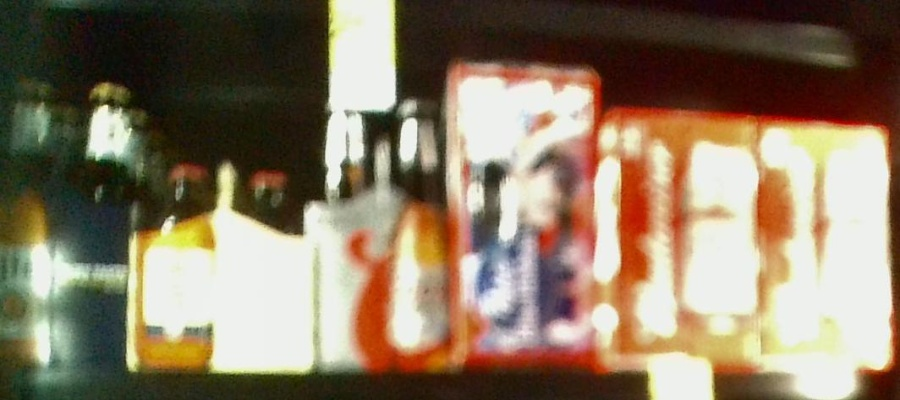bottle: (444, 56, 601, 371), (603, 103, 761, 375), (127, 161, 313, 376), (1, 78, 126, 374), (313, 93, 444, 371), (757, 112, 892, 373)
